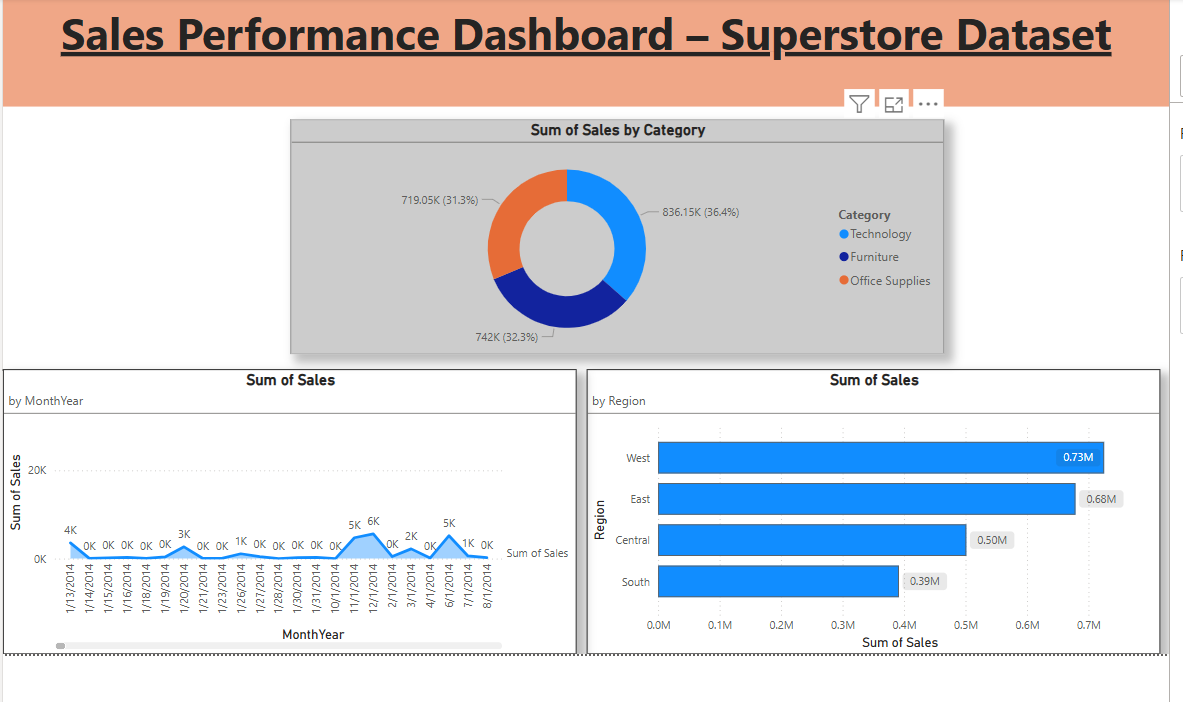

This screenshot's page, from the dashboard's own definition file:
{"tool":"powerbi","page":{"name":"Page 1","canvas":[1280,720],"ordinal":0},"visuals":[{"type":"textbox","box":[0,0,1280.3,119.4],"z":0},{"type":"clusteredBarChart","fields":{"Category":["Sample - Superstore.Region"],"Y":["Sum(Sample - Superstore.Sales)"]},"box":[640.8,407.5,629.8,312.9],"z":2},{"type":"lineChart","fields":{"Category":["Sample - Superstore.MonthYear"],"Y":["Sum(Sample - Superstore.Sales)"]},"box":[0,407.5,629.8,312.9],"z":3},{"type":"donutChart","fields":{"Y":["Sum(Sample - Superstore.Sales)"],"Category":["Sample - Superstore.Category"]},"box":[315.6,133.1,717.7,258],"z":4}]}

Visuals, with their boxes on the page's 1280x720 design canvas (x1, y1, x2, y2). These are canvas units, not pixel positions in the 1183x702 screenshot, which may show the page scaled, cropped or inside an application window:
textbox: BBox(0, 0, 1280, 119)
clusteredBarChart - Sample - Superstore.Region x Sum(Sample - Superstore.Sales): BBox(641, 408, 1271, 720)
lineChart - Sample - Superstore.MonthYear x Sum(Sample - Superstore.Sales): BBox(0, 408, 630, 720)
donutChart - Sum(Sample - Superstore.Sales) x Sample - Superstore.Category: BBox(316, 133, 1033, 391)
